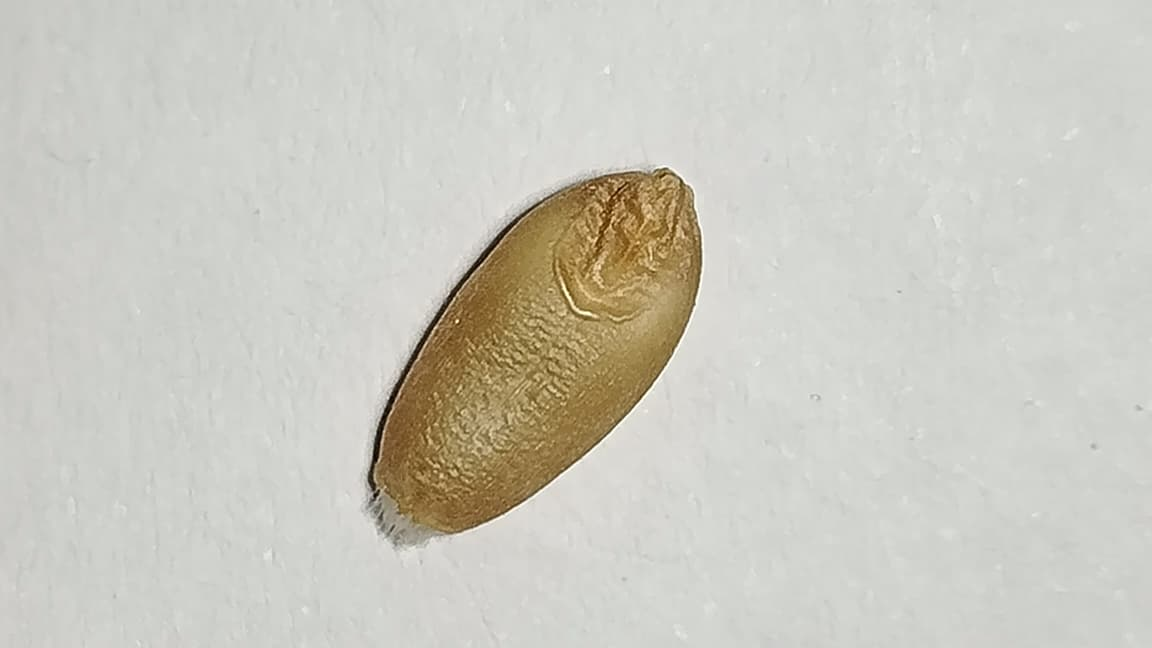healthy: (371, 168, 702, 541)
